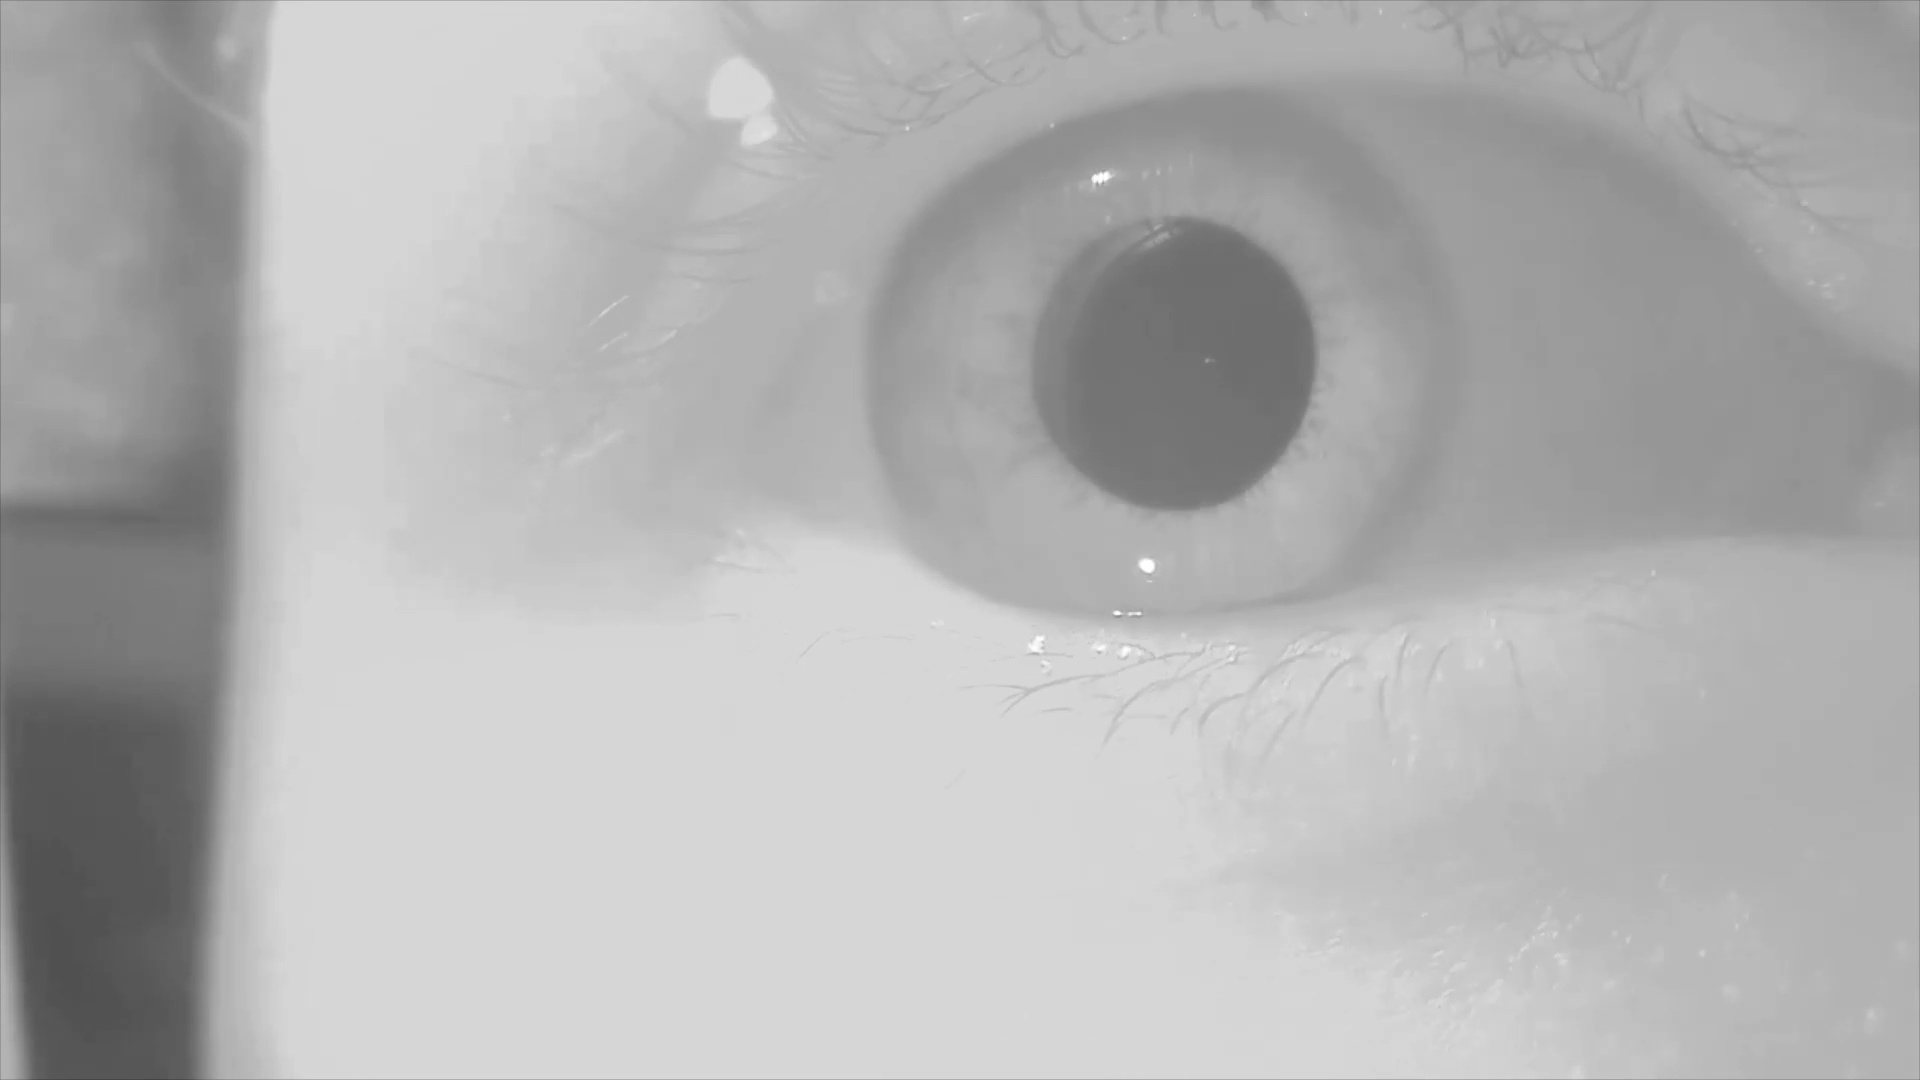pupil: (1024, 220, 1319, 517)
